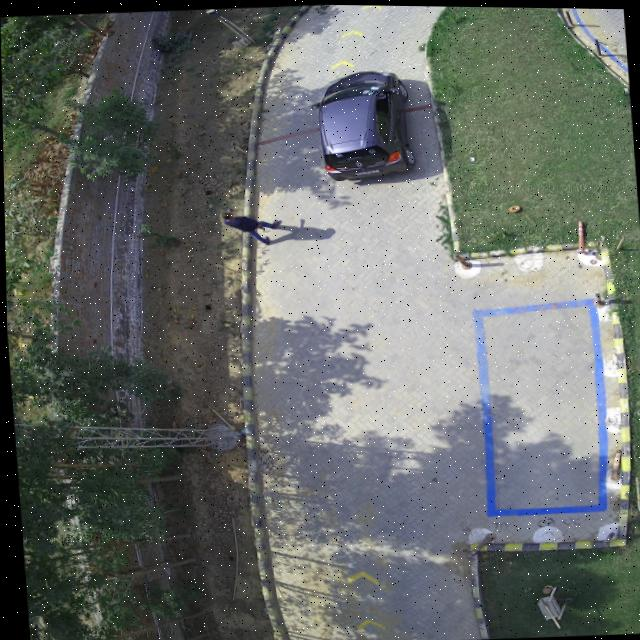car: (387, 149, 400, 160)
